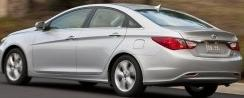back_view: (150, 29, 243, 86)
backlight: (149, 35, 199, 53)
side_glass: (38, 5, 143, 32)
